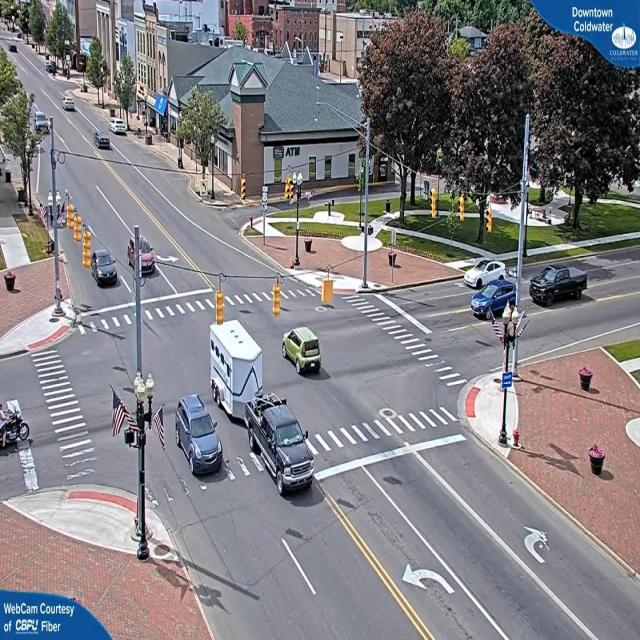car: (248, 402, 318, 496), (174, 395, 224, 477), (529, 266, 588, 306), (283, 326, 324, 376), (470, 278, 517, 321), (464, 260, 515, 288), (93, 251, 119, 287)
motorbike: (0, 406, 30, 450)
